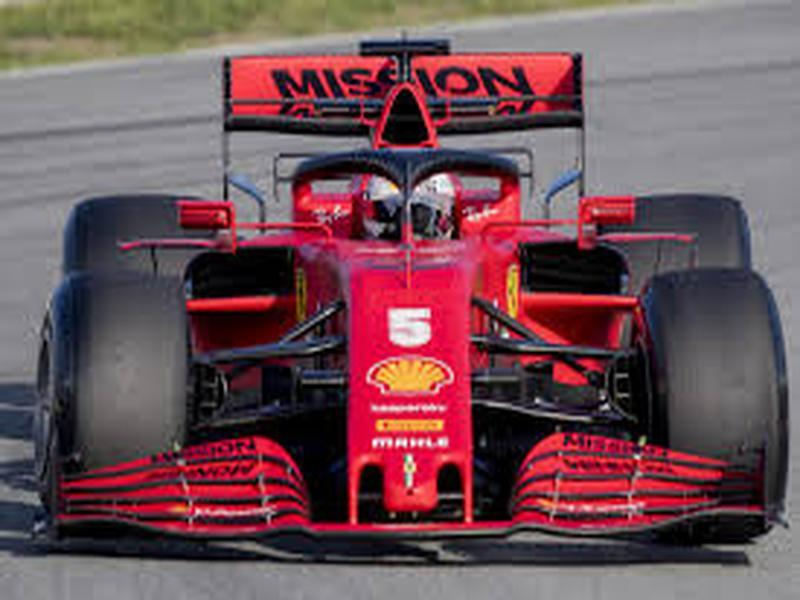racecar: (31, 33, 792, 579)
